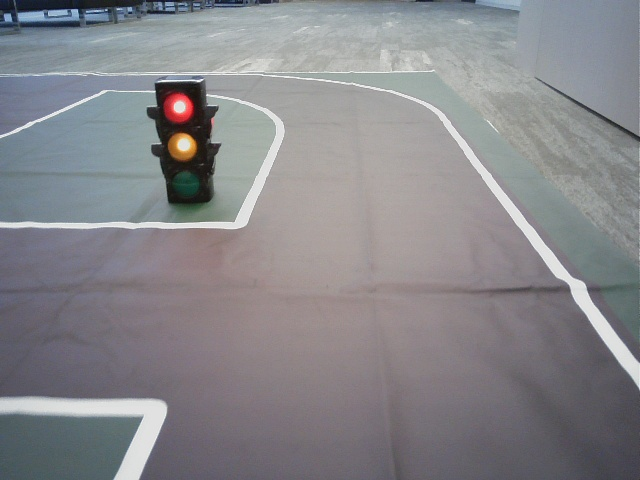red: (157, 87, 206, 203)
